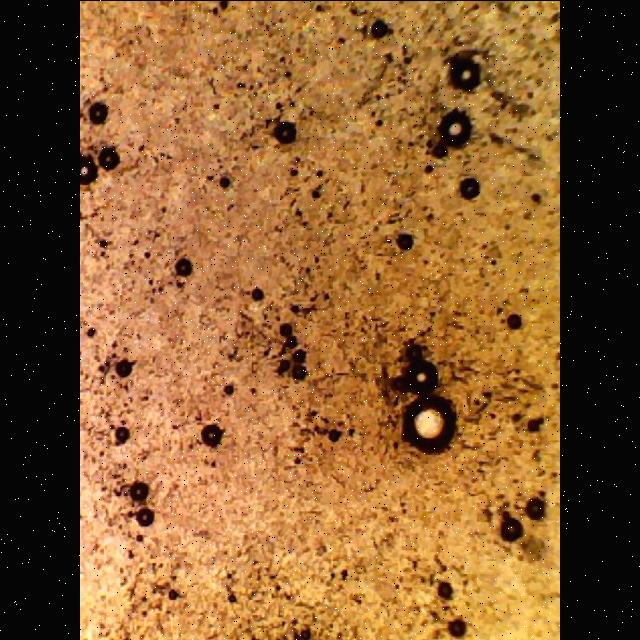microbeads: (401, 396, 457, 462), (392, 352, 448, 398), (434, 105, 474, 149), (446, 56, 484, 92), (196, 418, 226, 450), (271, 118, 297, 148), (457, 176, 485, 202), (96, 144, 122, 172), (85, 100, 109, 130), (167, 256, 196, 280), (80, 152, 96, 188), (111, 358, 133, 378)
